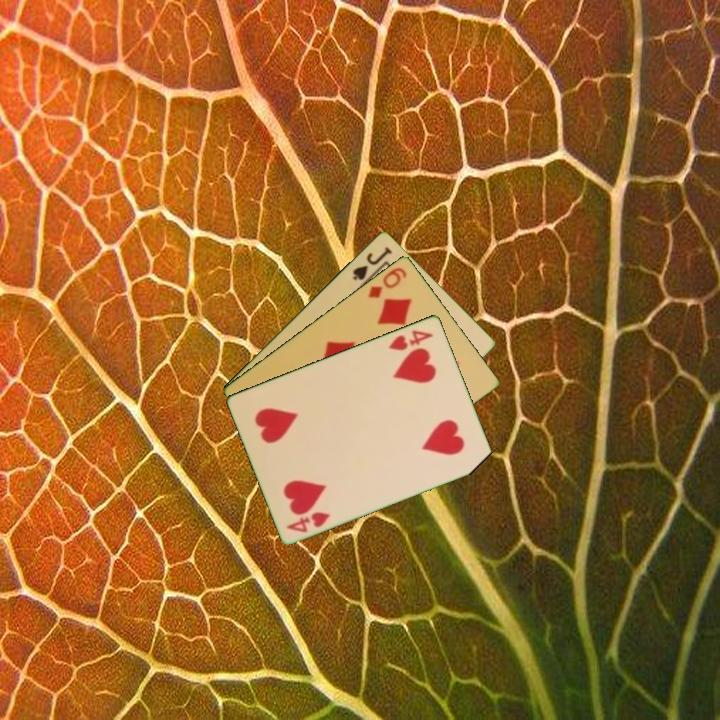4h: (385, 326, 436, 353), (283, 508, 333, 535)
6d: (364, 263, 410, 301)
Js: (349, 243, 395, 283)
